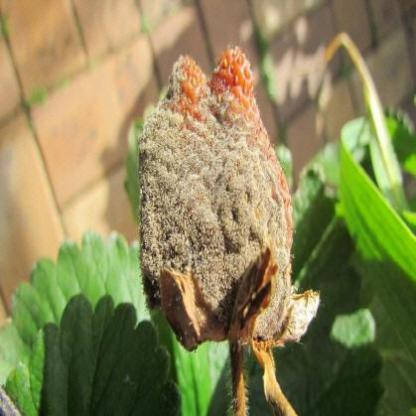Strawberry_Gray_Mold: (138, 43, 322, 353)
